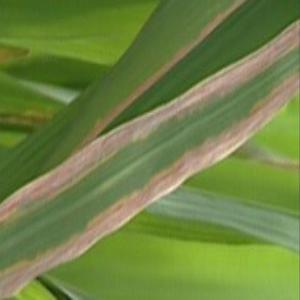Hawar Daun: (118, 111, 157, 149), (83, 215, 120, 255), (191, 138, 227, 176), (251, 92, 285, 128), (235, 47, 267, 80)
